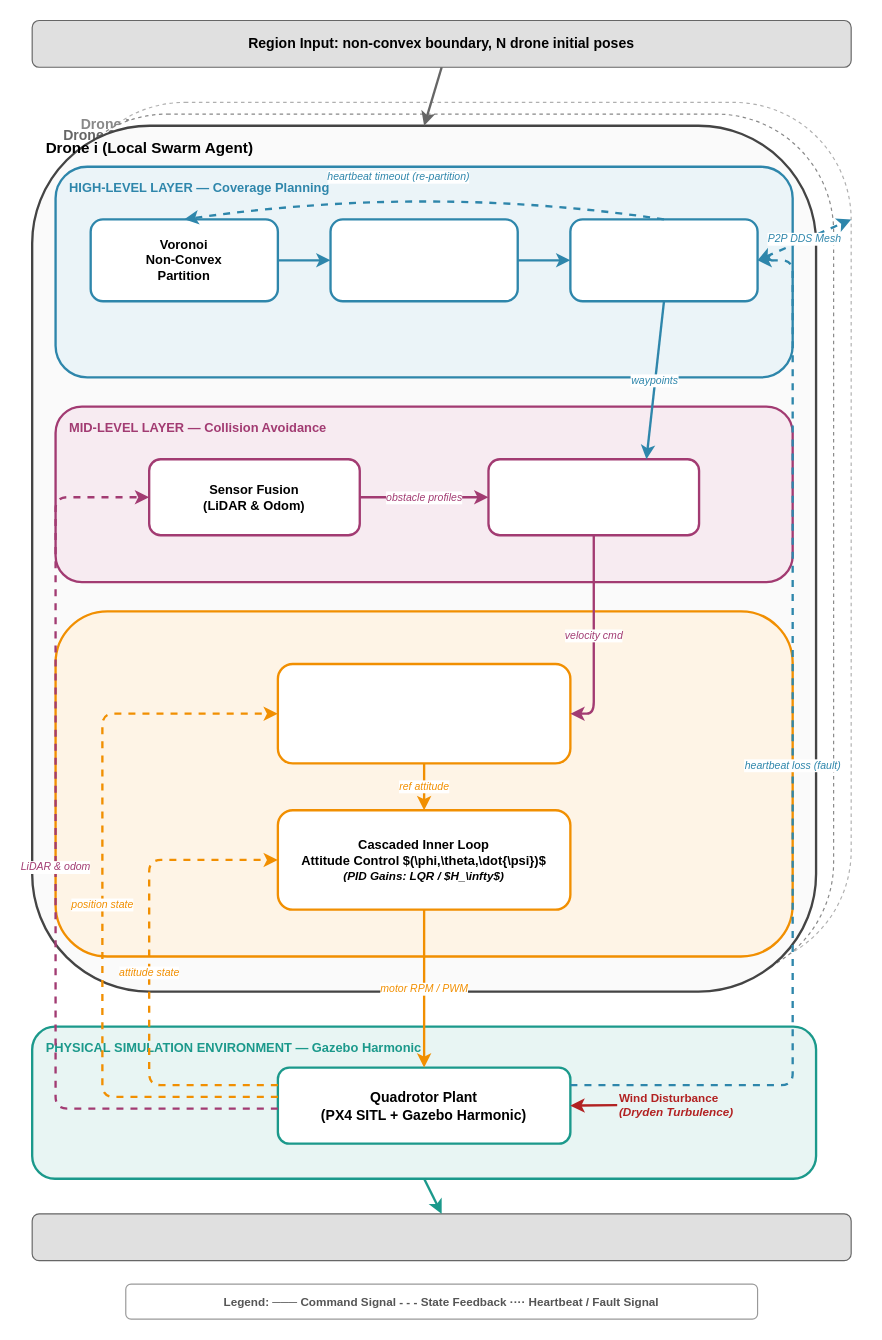
Image size: 882x1340. Some labels were removed from this diagram. Here are the shapes that lost their labels. From the top down, the box of each, then its label:
(329, 218, 518, 302): Boustrophedon Path Planning
(569, 218, 758, 302): FT-CC Fault-Tolerant Coverage
(487, 457, 700, 536): Decentralized ORCA Solver
(276, 662, 571, 764): Cascaded Outer Loop Position Control $(x,y,z)$ (PID Gains: LQR / $H_\infty$)
(54, 610, 793, 957): LOW-LEVEL LAYER — Cascaded PID Control (LQR vs H-infinity)
(31, 1213, 851, 1261): Mission Output: coverage ≥ 90%, zero collisions, fault recovery
